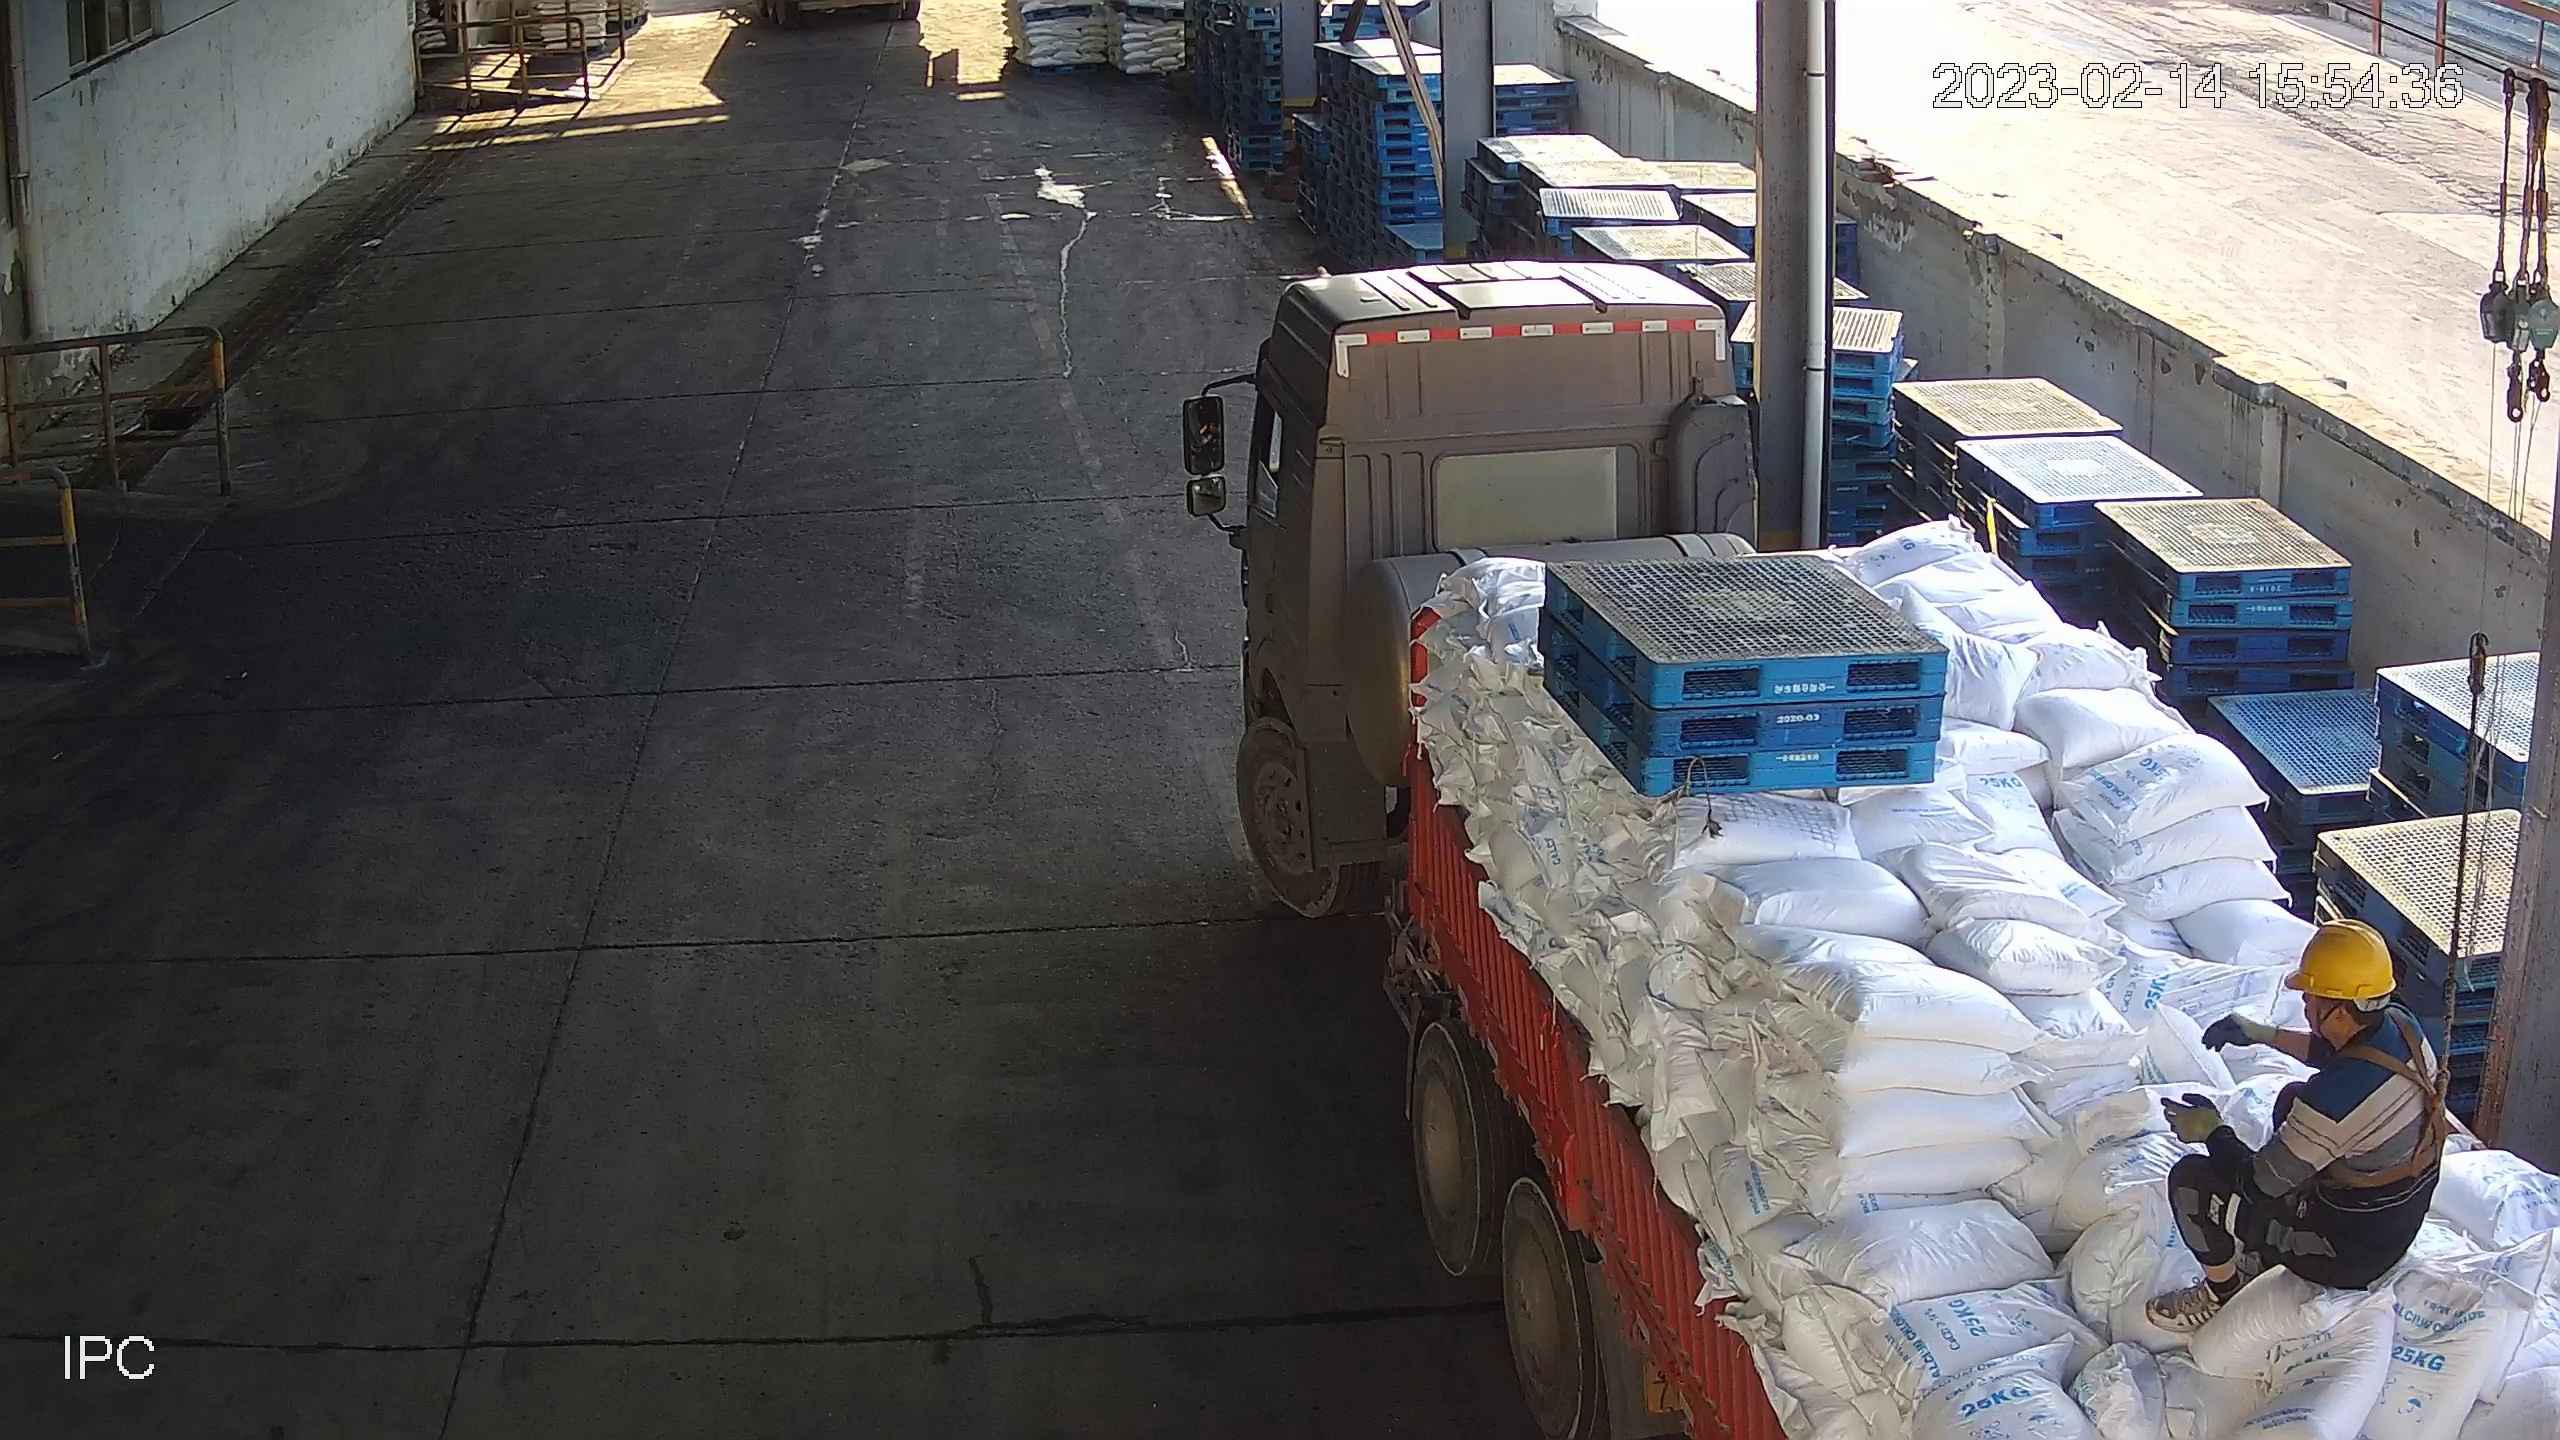belt: (2342, 1023, 2459, 1197)
head: (2201, 925, 2446, 1129)
helmet: (2288, 917, 2403, 1014)
people: (2151, 917, 2448, 1364)
truck: (1188, 249, 2560, 1440)
